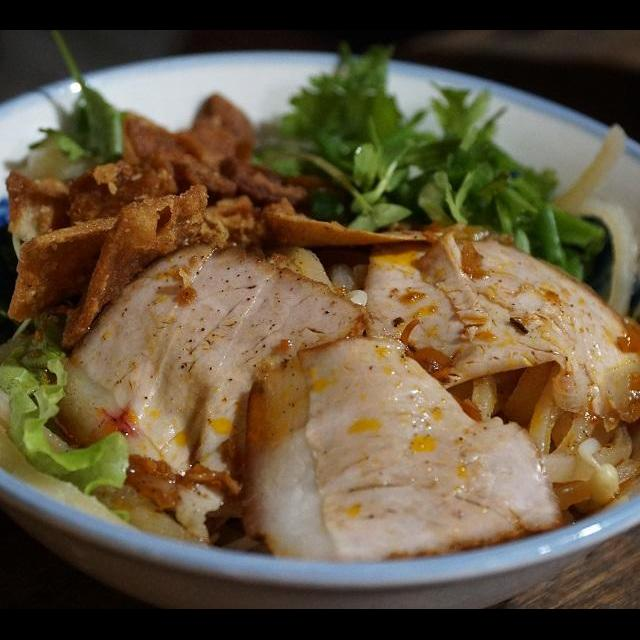banh da: (59, 178, 219, 354), (3, 156, 185, 272), (113, 86, 260, 202), (2, 214, 134, 328), (260, 195, 454, 252)
mi: (0, 332, 201, 550), (460, 354, 640, 517)
mi quang: (0, 72, 640, 609)
thit heo: (31, 238, 376, 530), (234, 330, 570, 572), (358, 229, 640, 432)
